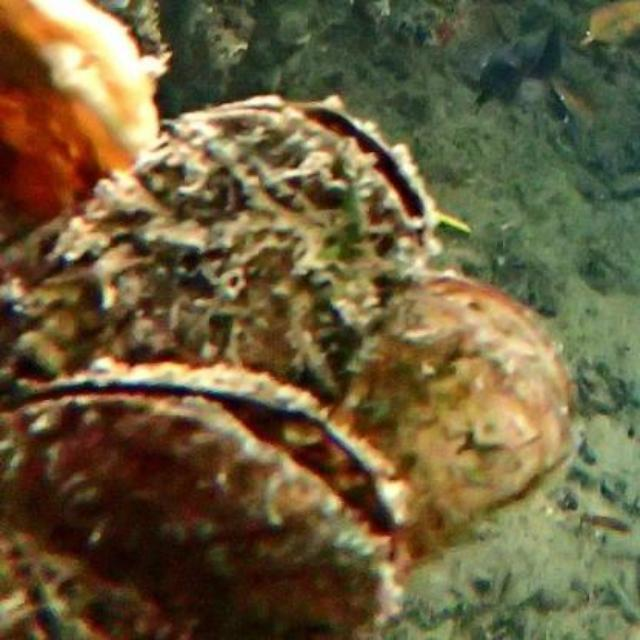Oyster-Closed: (331, 265, 591, 557), (0, 0, 167, 243)
Oyster-Open: (0, 93, 443, 394), (0, 351, 411, 640)
